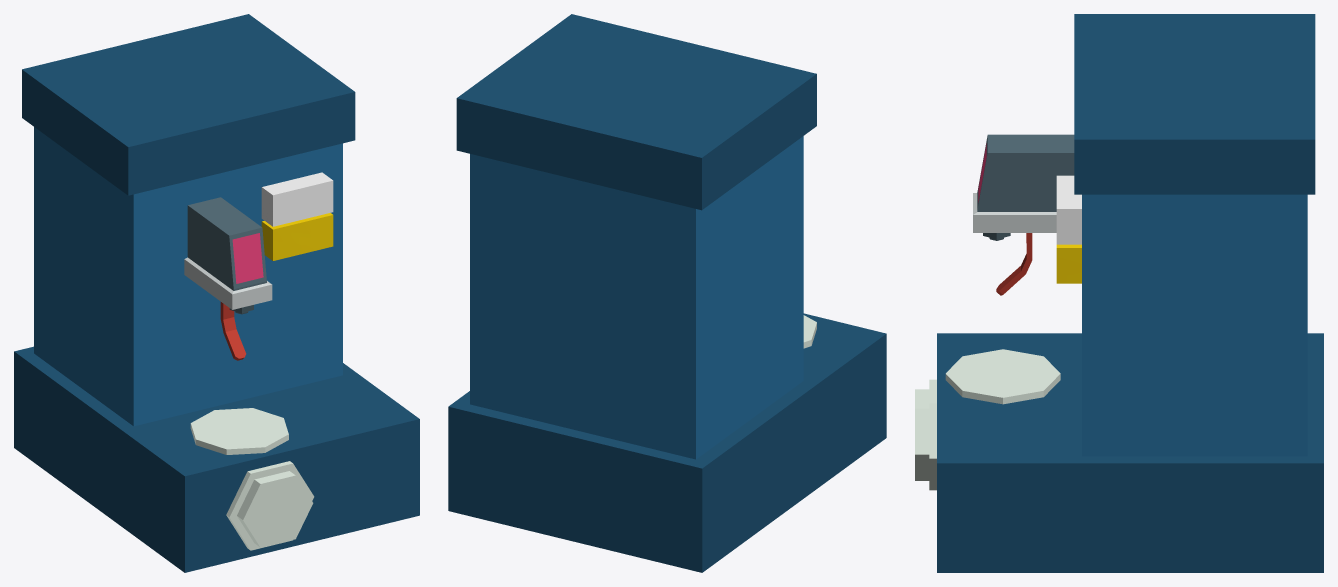
File: Drink_Machine_2_lv1.fbx
3 views of the same model, side by side, from view 1: azimuth 30°, elevation 25°; view 2: azimuth 150°, elevation 25°; view 3: azimuth 270°, elevation 25° (orthographic). The views are drawn at different scales.
Parts seen in each view (by area): view 1: Drink_Machine_2_lv1; view 2: Drink_Machine_2_lv1; view 3: Drink_Machine_2_lv1.
Boxes of the visible parts, x1,y1,x2,y2 form: Drink_Machine_2_lv1: [14, 14, 419, 572]; Drink_Machine_2_lv1: [448, 14, 886, 572]; Drink_Machine_2_lv1: [915, 14, 1323, 572].
Bounding box in the file's own units: 66.15 × 102 × 87.88.
